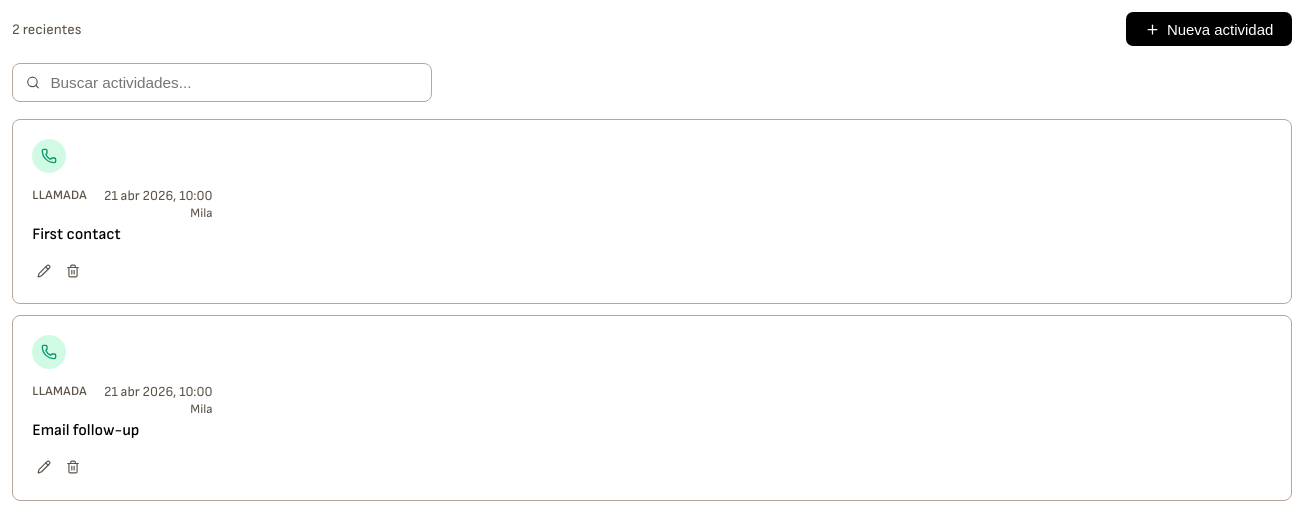
Test: ActivityTab — shared behaviour › filters list by search term
The image size is (1304, 518).
Expected: the text "First contact" is shown, [32,225,121,244]
Step 1. Type "email" into the search field with placeholder "Buscar actividades..." → {"x": 233, "y": 82}, box [48,72,418,92]
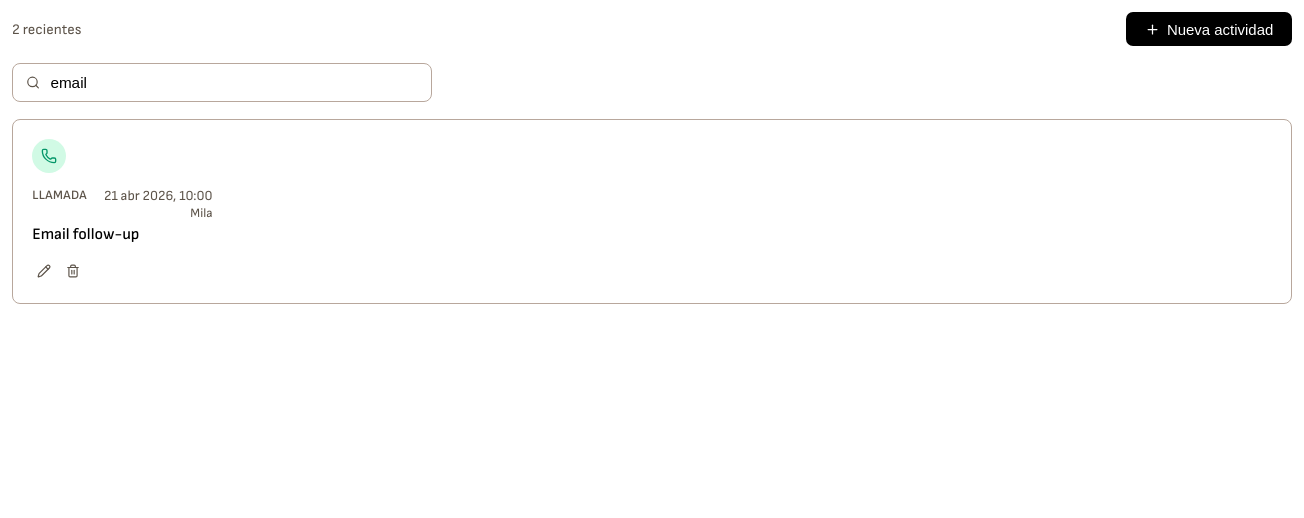
Expected: the text "Email follow-up" is shown, [32,225,139,244]
Now the text "First contact" is gone
